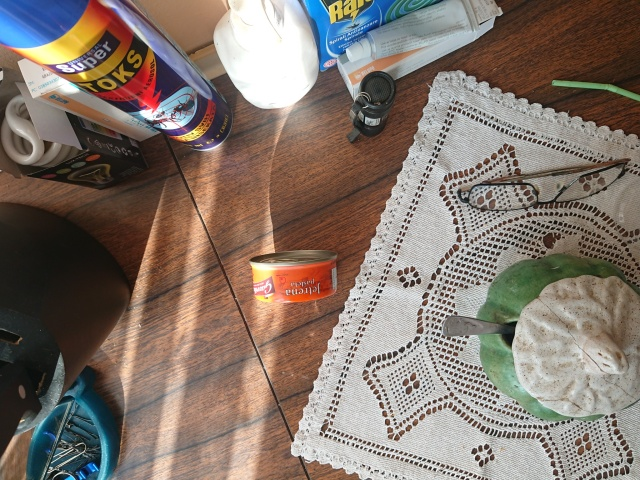Gavrilovic Pork Liver Pate 100g: (246, 247, 342, 306)
